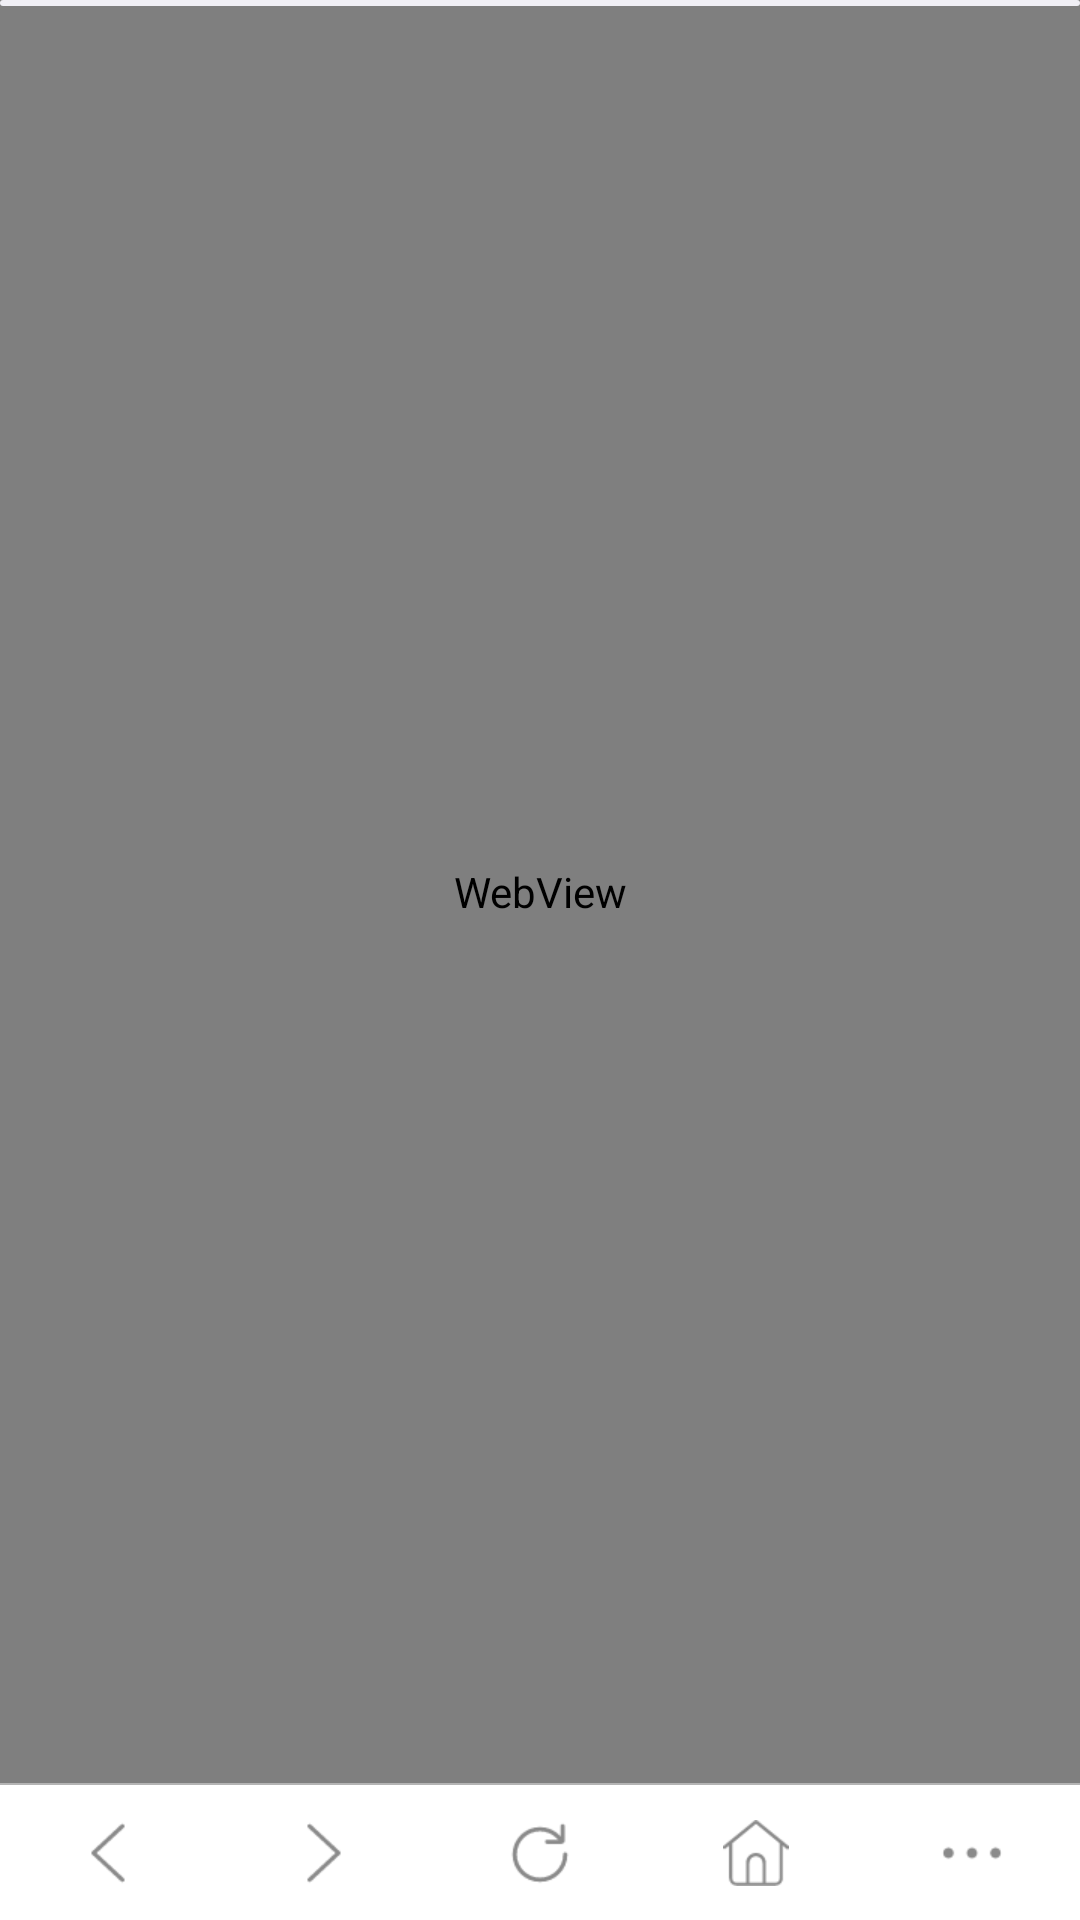

Where icons sit on this 1080 × 1920 app screen, as (x1=x1, y1=y1, x2=x2, y2=y2):
forward: (x1=307, y1=1824, x2=341, y2=1882)
go back: (x1=91, y1=1824, x2=125, y2=1882)
home: (x1=723, y1=1820, x2=789, y2=1886)
menu: (x1=943, y1=1847, x2=1001, y2=1859)
refresh: (x1=512, y1=1824, x2=568, y2=1882)
